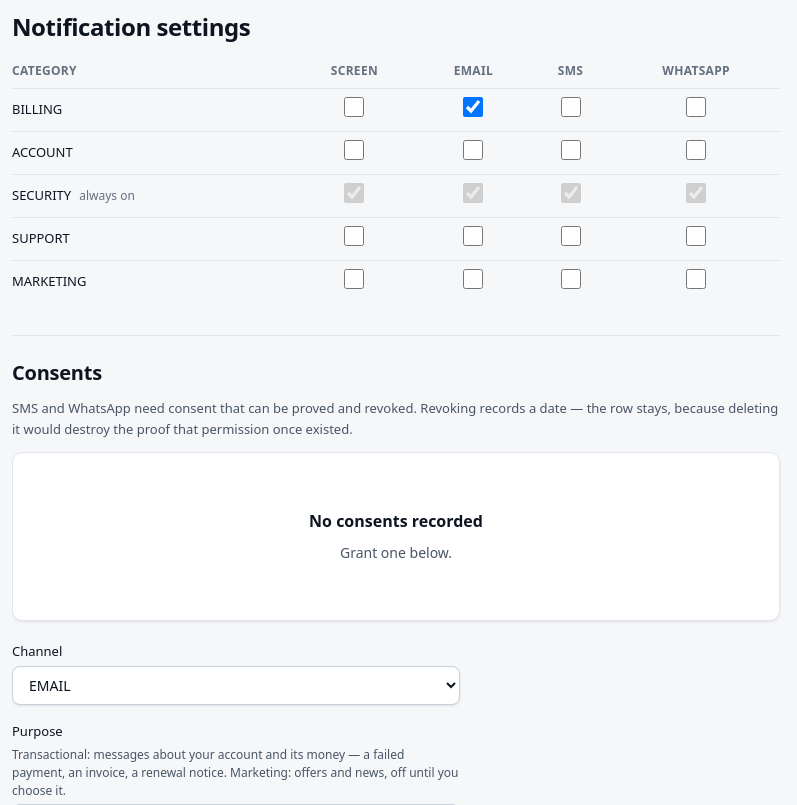
a preference › is written from the response, which is the whole map
The width and height of the screenshot is (797, 805).
Click the checkbox named "MARKETING on EMAIL": (473, 279) [463,269,483,289]
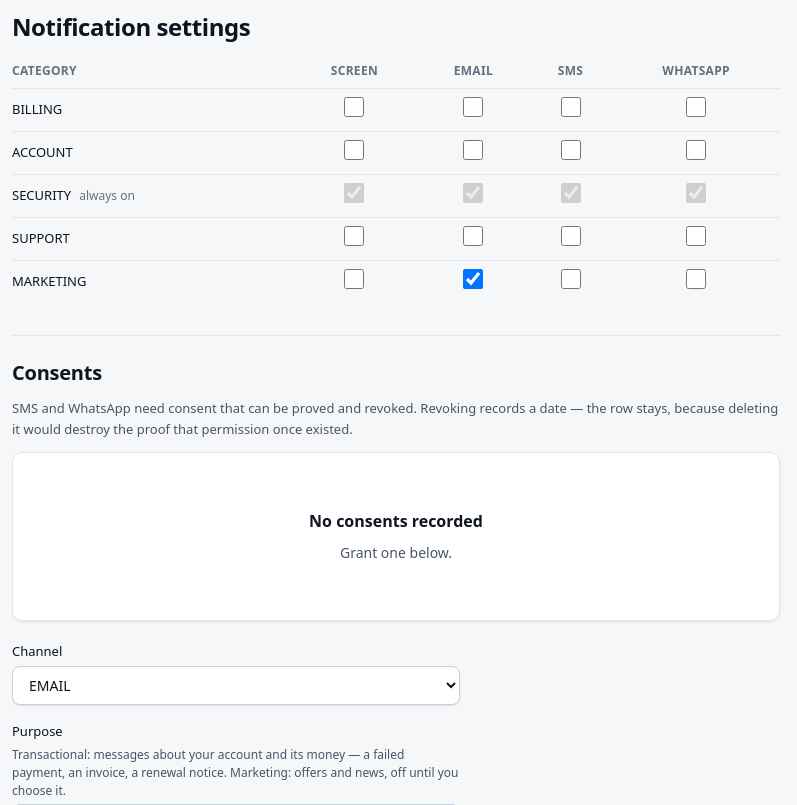
expect the checkbox named "MARKETING on EMAIL" is checked: met, box [463,269,483,289]
expect the checkbox named "BILLING on EMAIL" is not checked: met, box [463,97,483,117]
